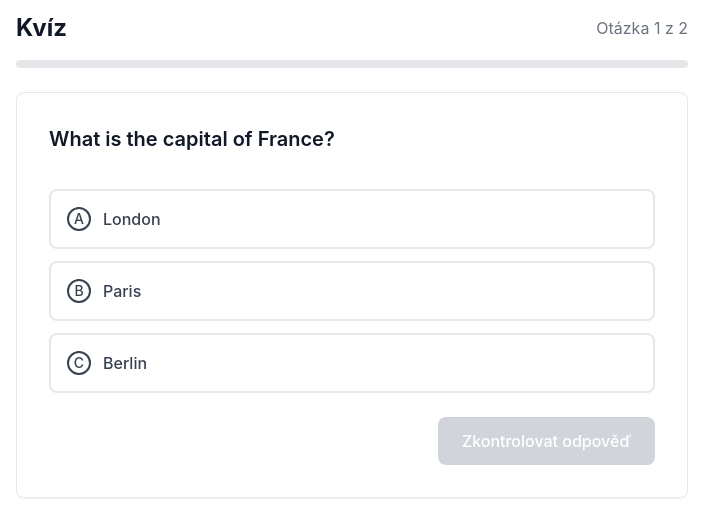
Test: ChapterQuiz › enables check answer button when answer is selected
The image size is (705, 515).
Click the radio button with test id "option-1".
click(122, 291)  # box 49,261 -> 655,321
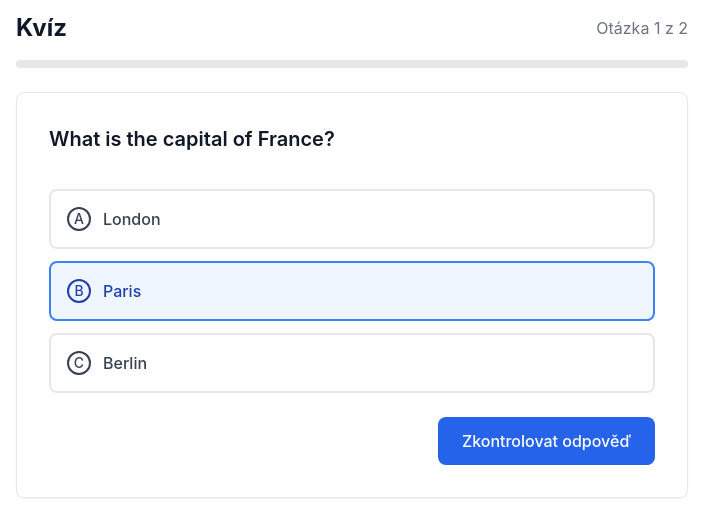
Result: the button with test id "check-answer-button" is enabled at 438,417 -> 655,465
